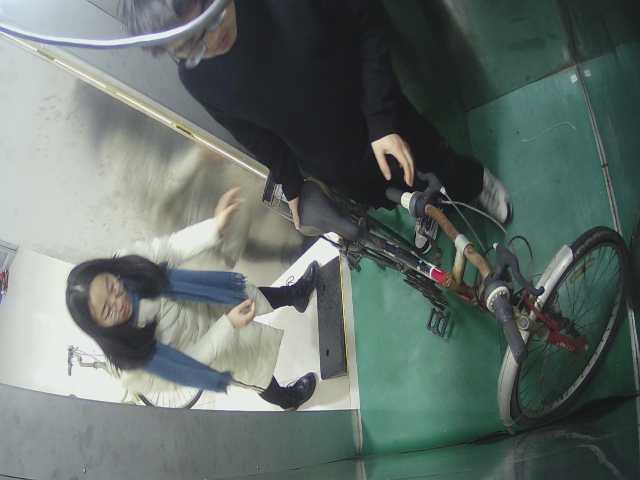bicycle: (261, 161, 634, 430)
person: (115, 1, 529, 257), (65, 220, 339, 412)
